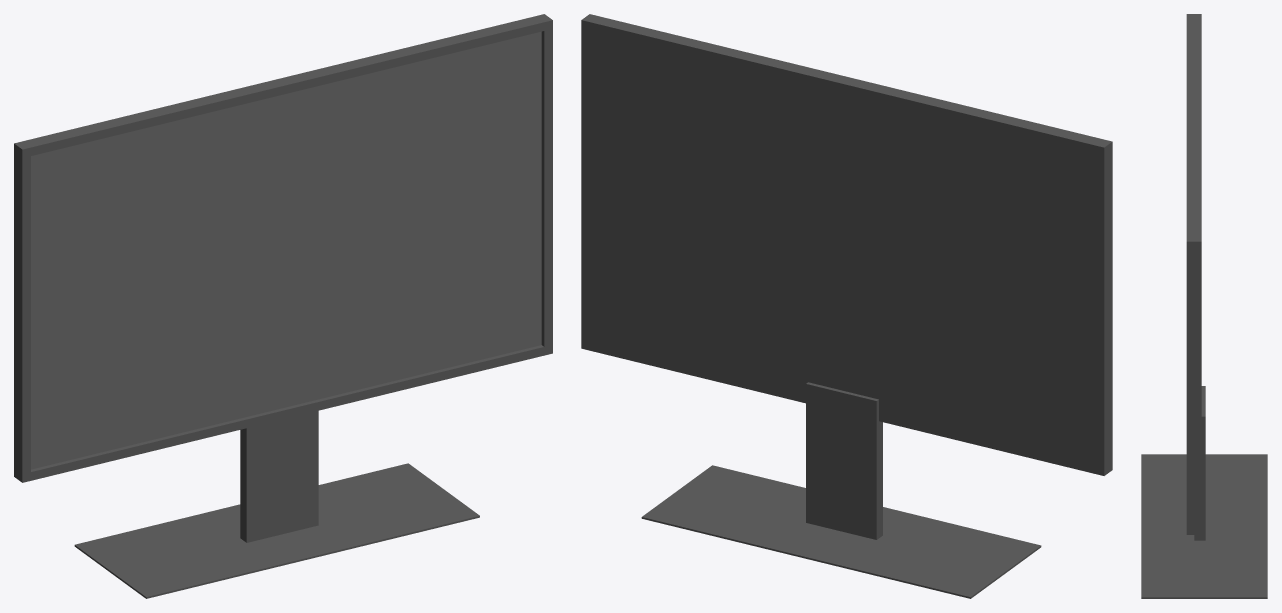
The model's file is DisplayScreen.glb.
The picture shows the model from 3 angles, left to right: view 1: azimuth 30°, elevation 25°; view 2: azimuth 150°, elevation 25°; view 3: azimuth 270°, elevation 25°; orthographic projection. The views are drawn at different scales.
Parts seen in each view (by area): view 1: model; view 2: model; view 3: model.
Part boxes in pixels (left/top/right/bottom): model: left=14, top=14, right=552, bottom=598; model: left=581, top=14, right=1112, bottom=598; model: left=1141, top=14, right=1267, bottom=598.
Size of what is drawn, in the model's own units: 4.98 by 4.08 by 1.17.
Materials: 2 (1 with a texture image).
